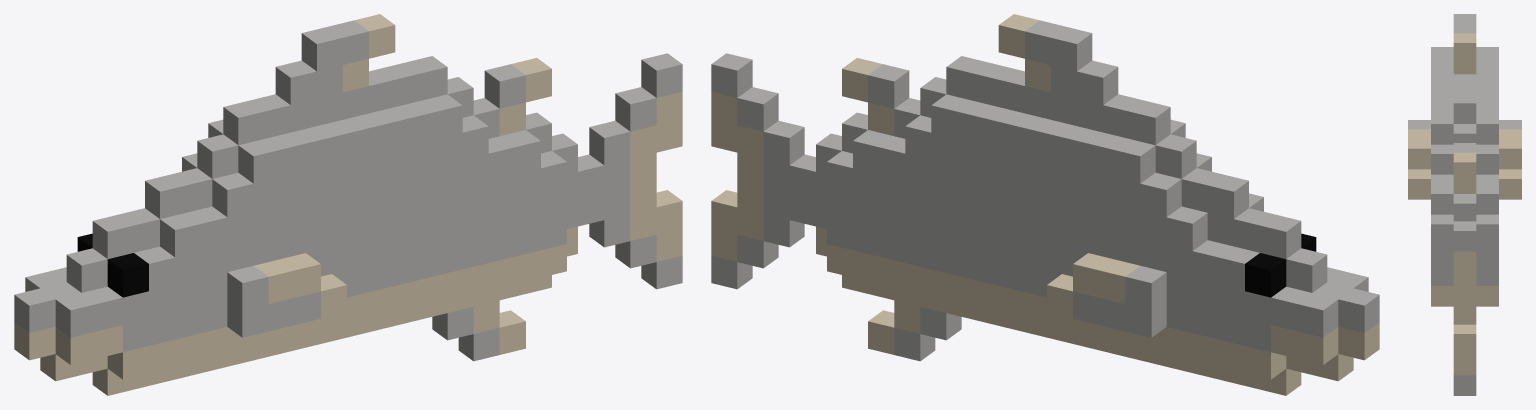
File: Salmon.fbx
3 views of the same model, side by side, from view 1: azimuth 30°, elevation 25°; view 2: azimuth 150°, elevation 25°; view 3: azimuth 270°, elevation 25° (orthographic). The views are drawn at different scales.
Visible parts, largest first — view 1: salmon_25x13x5; view 2: salmon_25x13x5; view 3: salmon_25x13x5.
Part boxes in pixels (<box>): salmon_25x13x5: <box>14,14,682,395</box>; salmon_25x13x5: <box>711,14,1379,395</box>; salmon_25x13x5: <box>1408,14,1521,395</box>.
Bounding box in the file's own units: 1042 × 542 × 208.
